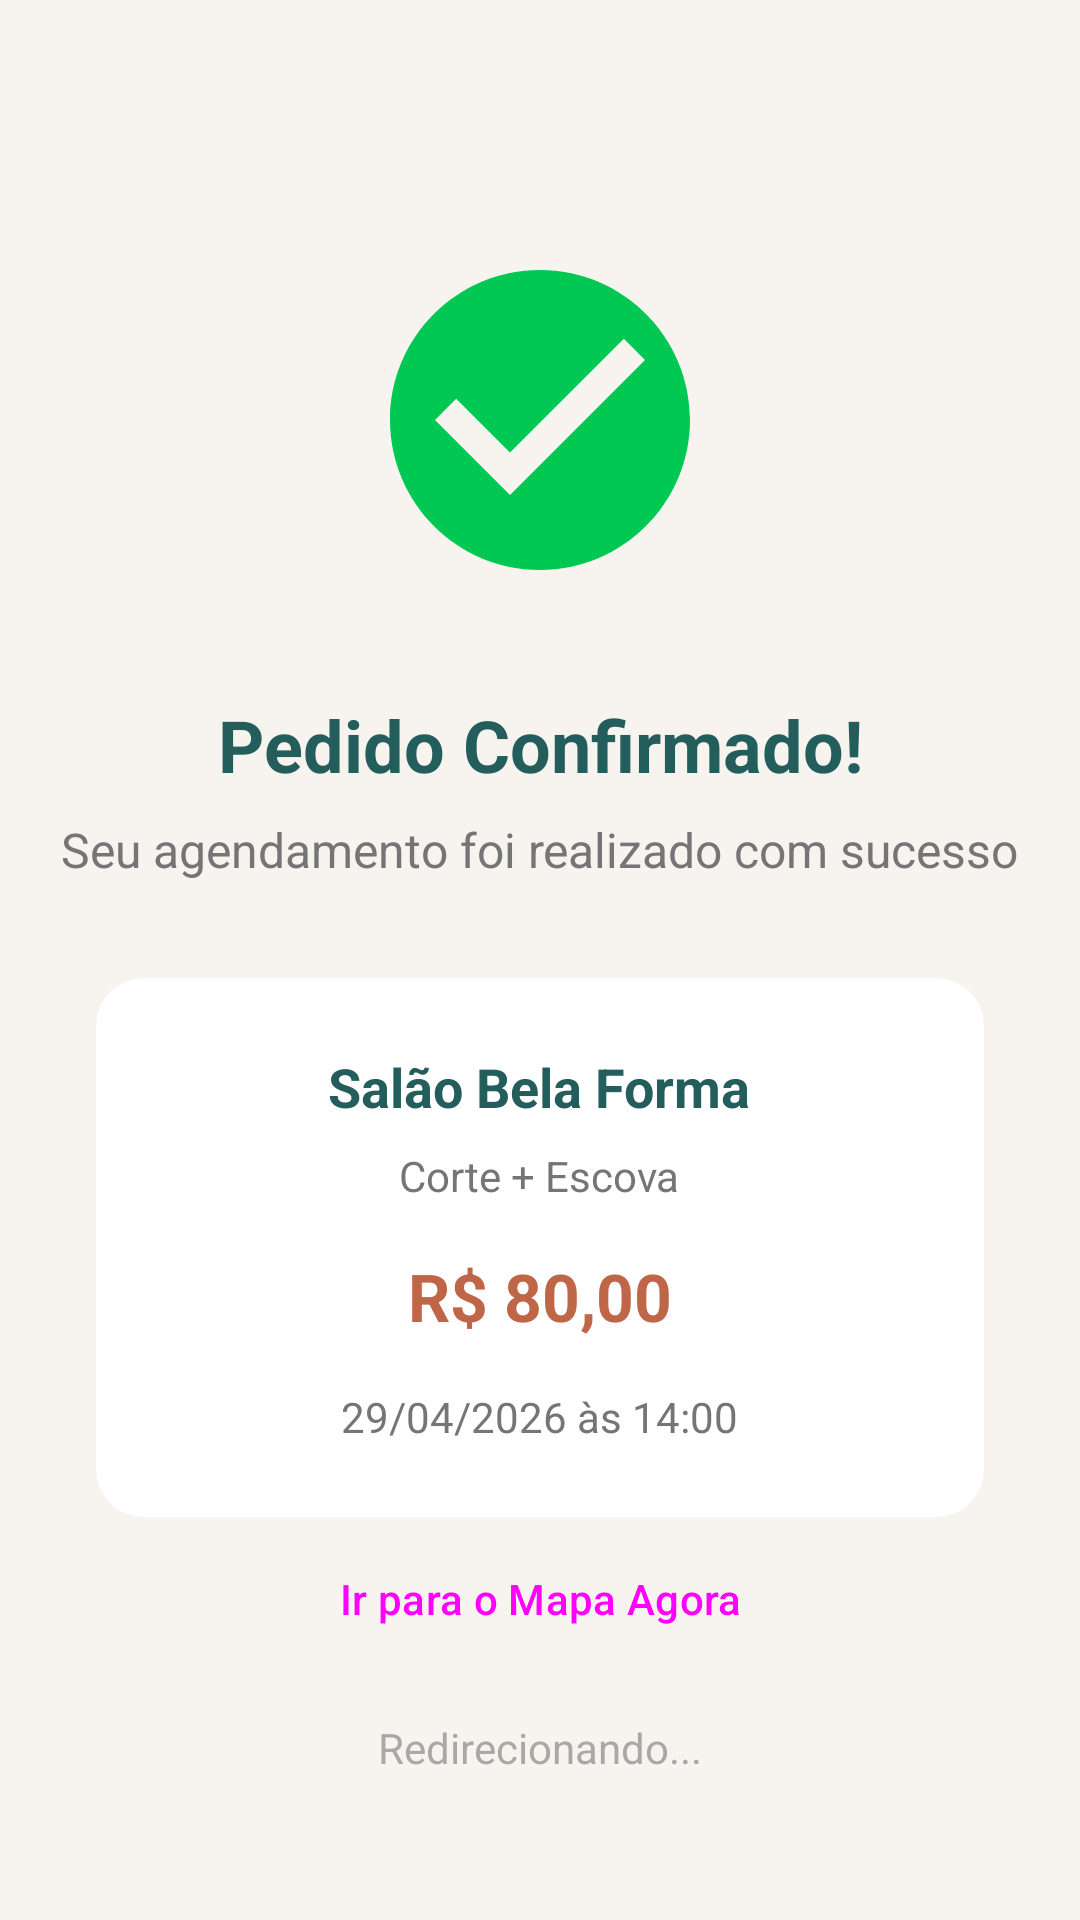

Point at icon controls on the screen. Image size 1080x1920, points as [x,y].
check circle: [540,420]
